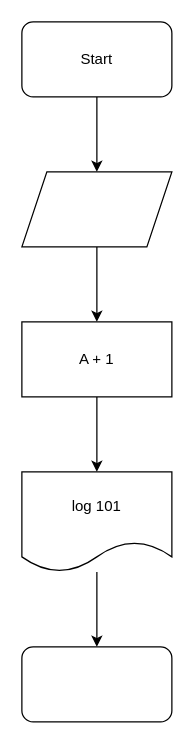
Image size: 194x744. Some labels were removed from this diagram. Here are the shapes that lost their labels. From the top down, the box of each, then its label:
(21, 171, 172, 247): input A = 100
(21, 646, 172, 722): End
